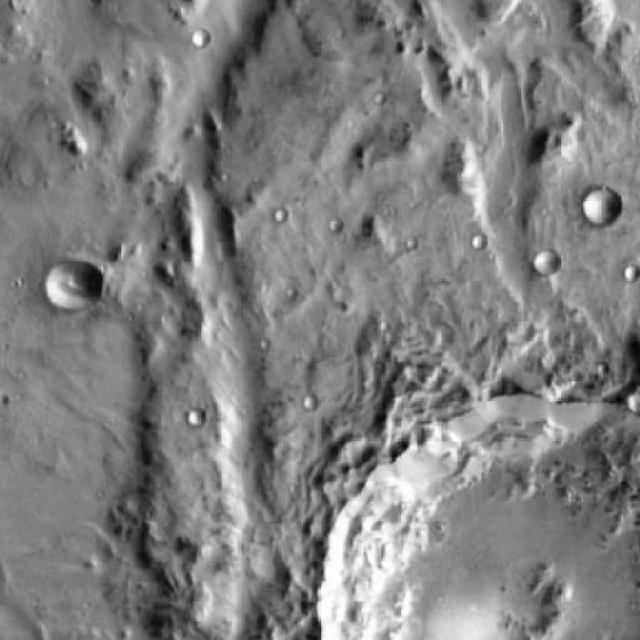crater: (311, 400, 640, 640), (45, 258, 103, 316), (578, 186, 622, 228), (533, 249, 558, 274), (190, 408, 207, 424), (472, 234, 488, 249)
